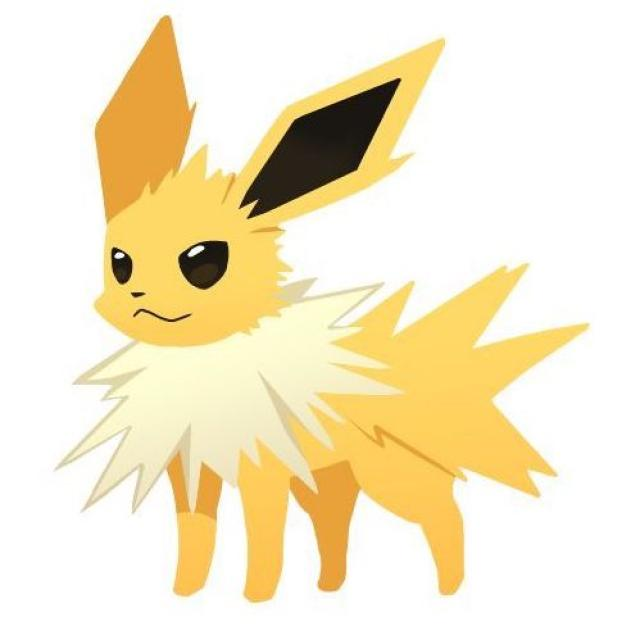Jolteon: (68, 15, 486, 600)
